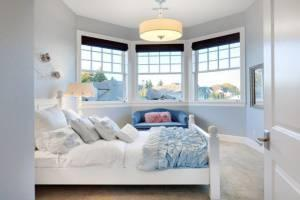window: (77, 30, 246, 103)
